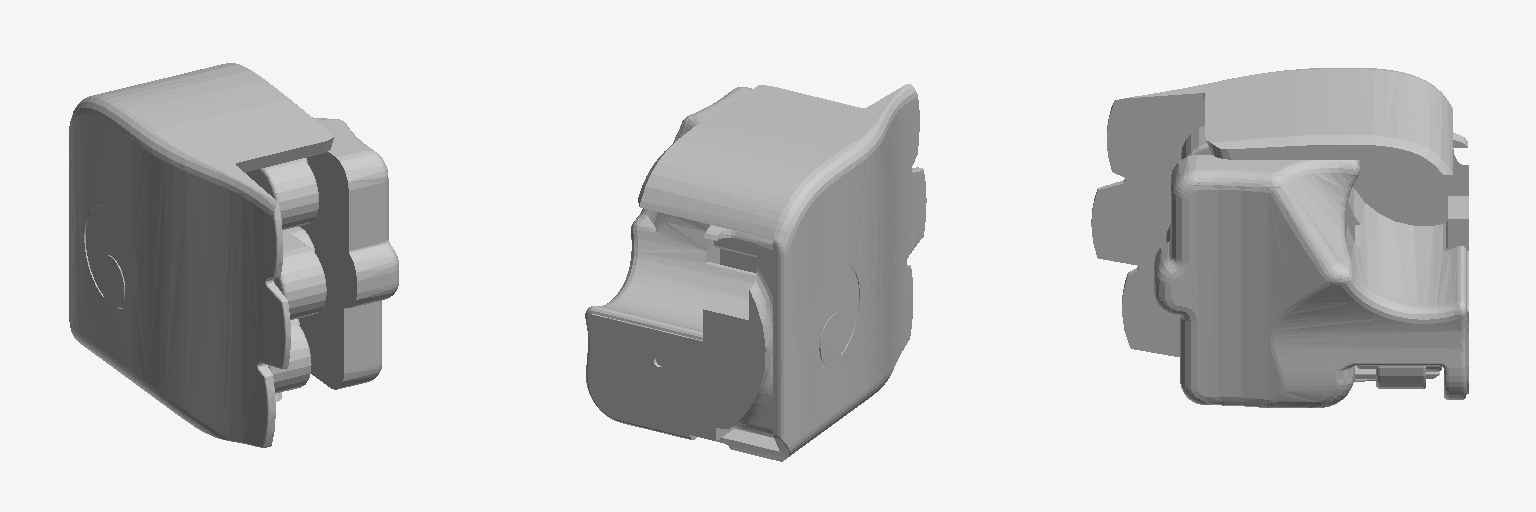
File: rl_dg_palm_c_mesh.obj
3 views of the same model, side by side, from view 1: azimuth 30°, elevation 25°; view 2: azimuth 150°, elevation 25°; view 3: azimuth 270°, elevation 25° (orthographic).
Bounding box in the file's own units: 0.064 × 0.0823 × 0.0991.